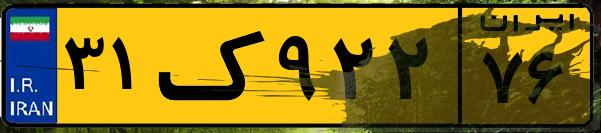1: (110, 28, 158, 98)
2: (385, 28, 445, 110), (330, 28, 385, 110)
3: (57, 26, 110, 100)
6: (525, 38, 570, 115)
7: (475, 38, 525, 113)
9: (270, 28, 330, 110)
ک: (158, 12, 270, 120)
